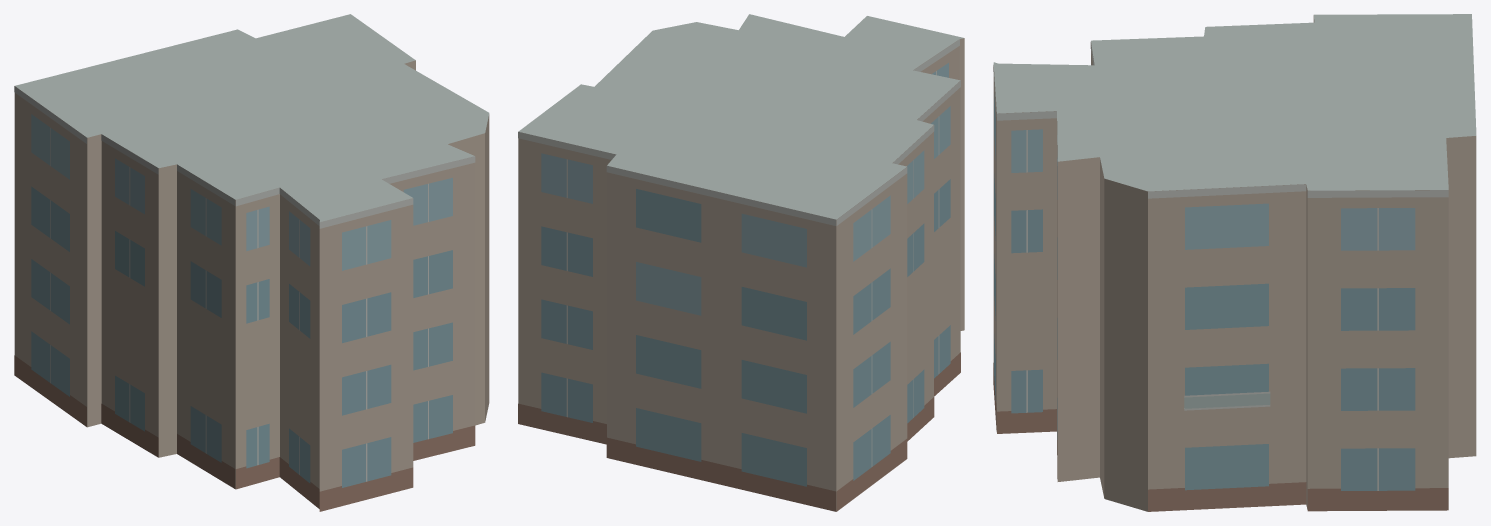
File: survey-upis-32823063.glb
3 views of the same model, side by side, from view 1: azimuth 30°, elevation 25°; view 2: azimuth 150°, elevation 25°; view 3: azimuth 270°, elevation 25° (orthographic). The views are drawn at different scales.
Visible parts, largest first — view 1: survey-upis-32823063.tmp; view 2: survey-upis-32823063.tmp; view 3: survey-upis-32823063.tmp.
Boxes of the visible parts, x1,y1,x2,y2 form: survey-upis-32823063.tmp: [14, 14, 489, 511]; survey-upis-32823063.tmp: [518, 14, 964, 511]; survey-upis-32823063.tmp: [993, 14, 1476, 511].
Size of the model in its own units: 12.83 by 10.8 by 14.76.
